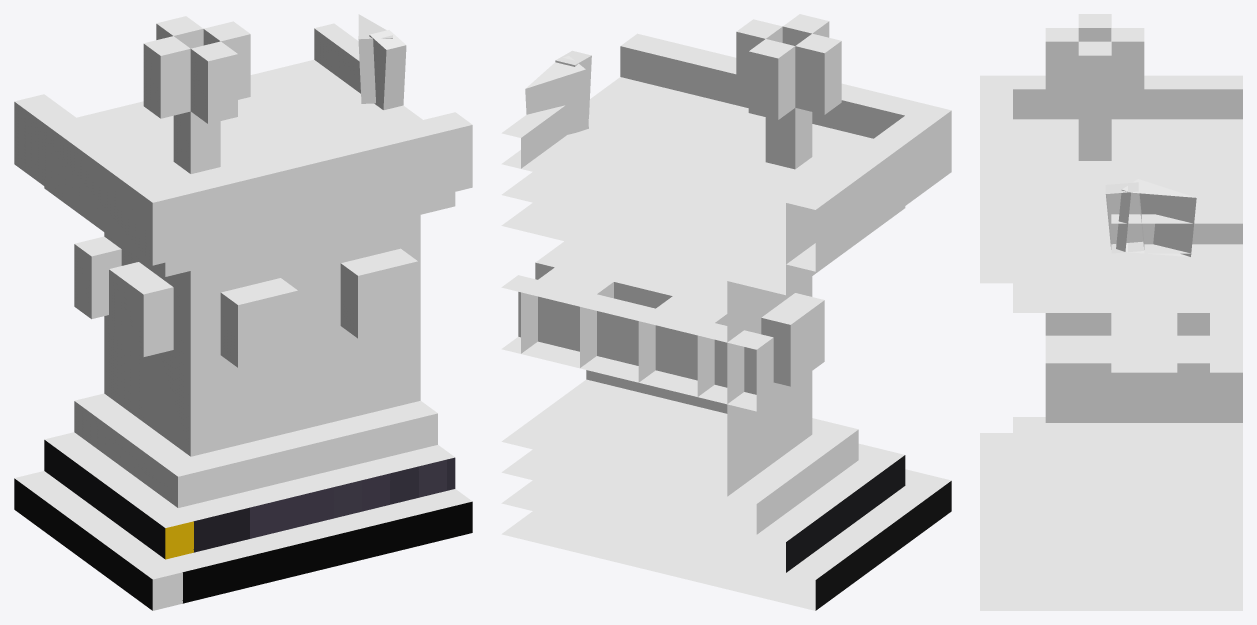
The model's file is forbidden_hex_source_altar_imported_formed_3.obj.
3 views of the same model, side by side, from view 1: azimuth 30°, elevation 25°; view 2: azimuth 150°, elevation 25°; view 3: azimuth 270°, elevation 25° (orthographic). The views are drawn at different scales.
Parts seen in each view (by area): view 1: altar; view 2: altar; view 3: altar.
Part boxes in pixels (x1,y1,x2,y2): altar: [14, 14, 472, 610]; altar: [501, 14, 951, 610]; altar: [980, 14, 1242, 610].
Size of the model in its own units: 1 by 1.5 by 0.75.
